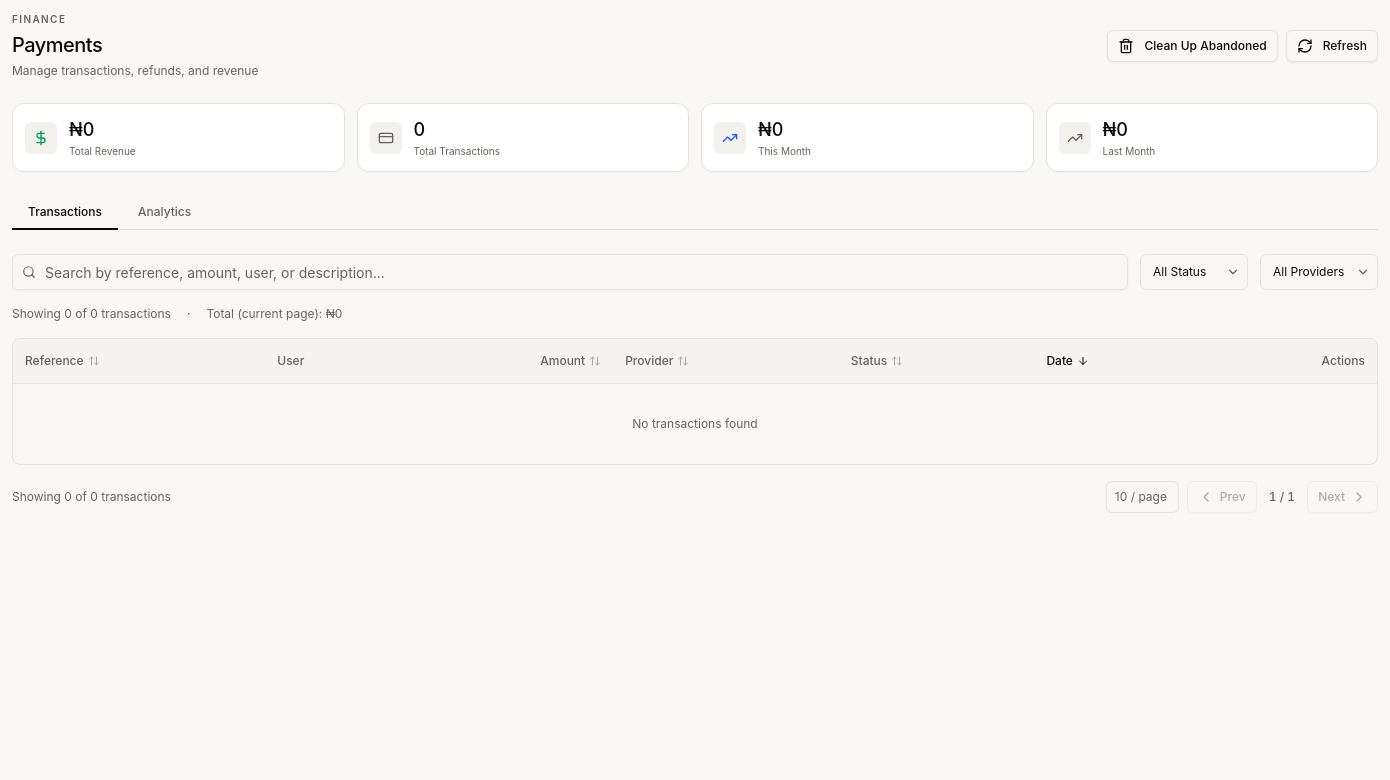
AdminPayments Page › Analytics Tab › switches to analytics tab
Click the button "Analytics": (165, 213) x1=122 y1=196 x2=207 y2=230
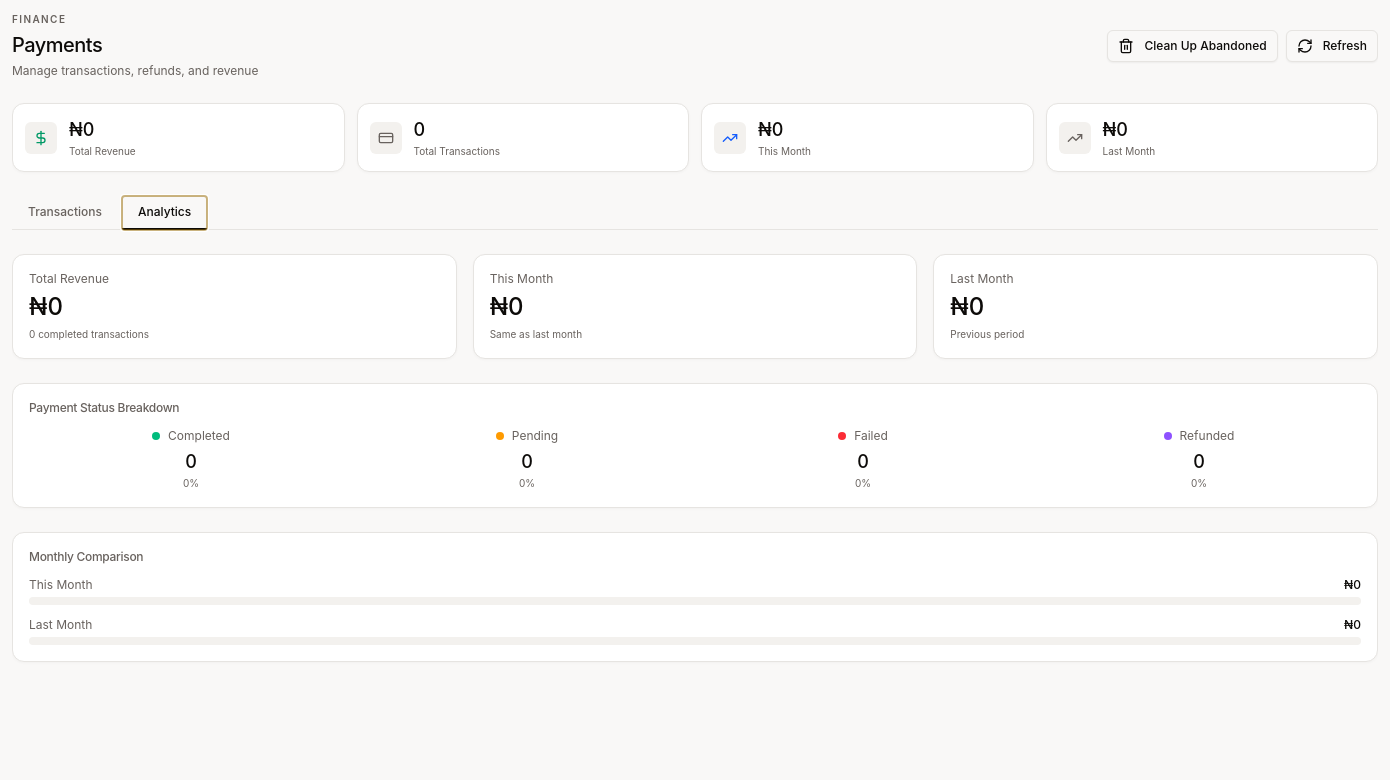
Expected: the heading "Payment Status Breakdown" is shown, x1=29 y1=400 x2=179 y2=415
